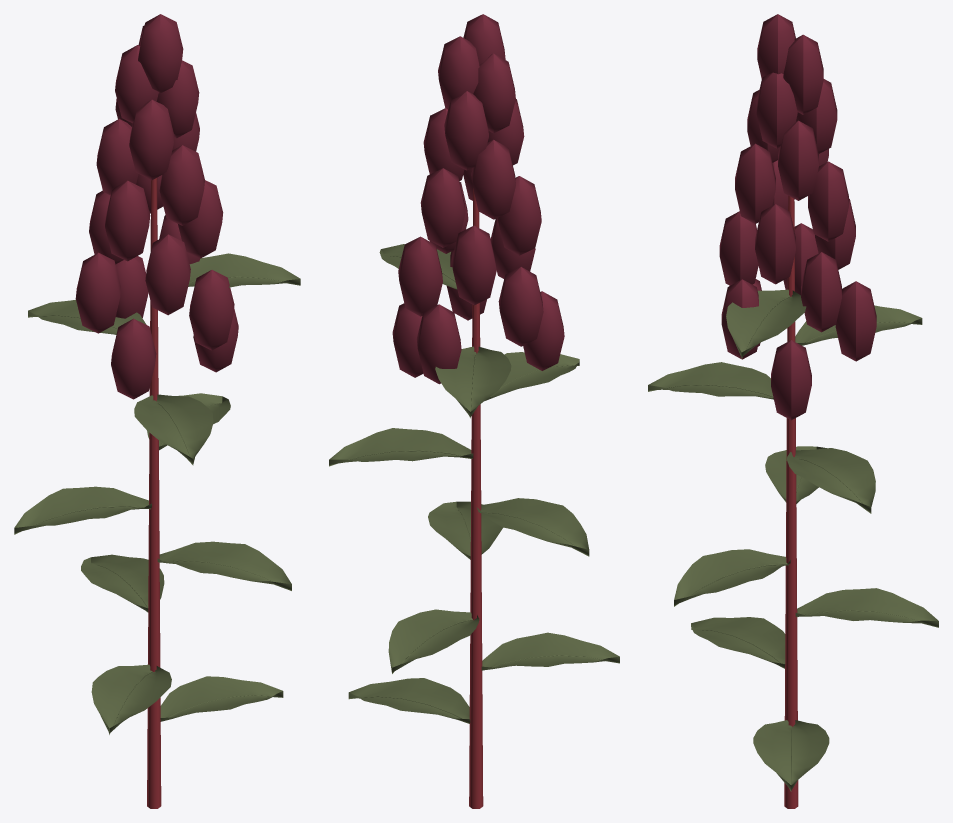
File: amaranto.glb
3 renders of one model, left to right at view 1: azimuth 30°, elevation 25°; view 2: azimuth 150°, elevation 25°; view 3: azimuth 270°, elevation 25°, orthographic.
Visible parts, largest first — view 1: amaranto; view 2: amaranto; view 3: amaranto.
Part boxes in pixels (<box>): amaranto: <box>14,14,300,808</box>; amaranto: <box>329,14,619,808</box>; amaranto: <box>648,14,938,808</box>.
Bounding box in the file's own units: 0.4964 × 1.48 × 0.4909.
